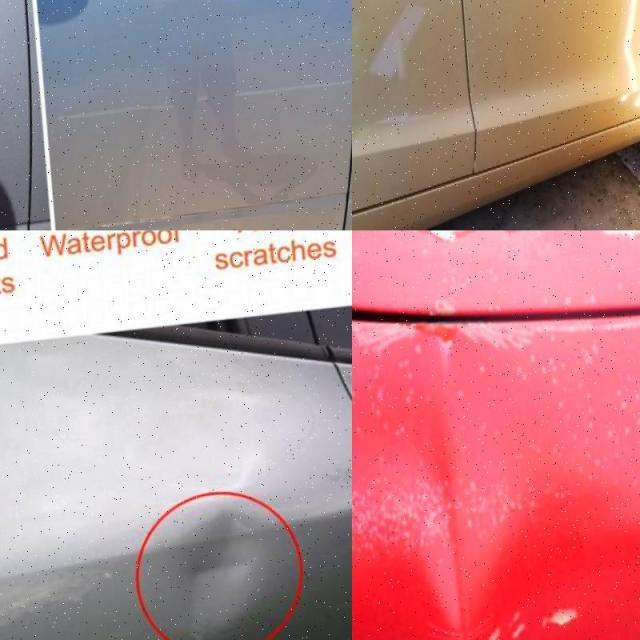car damage: (375, 316, 523, 640), (172, 500, 281, 607)
